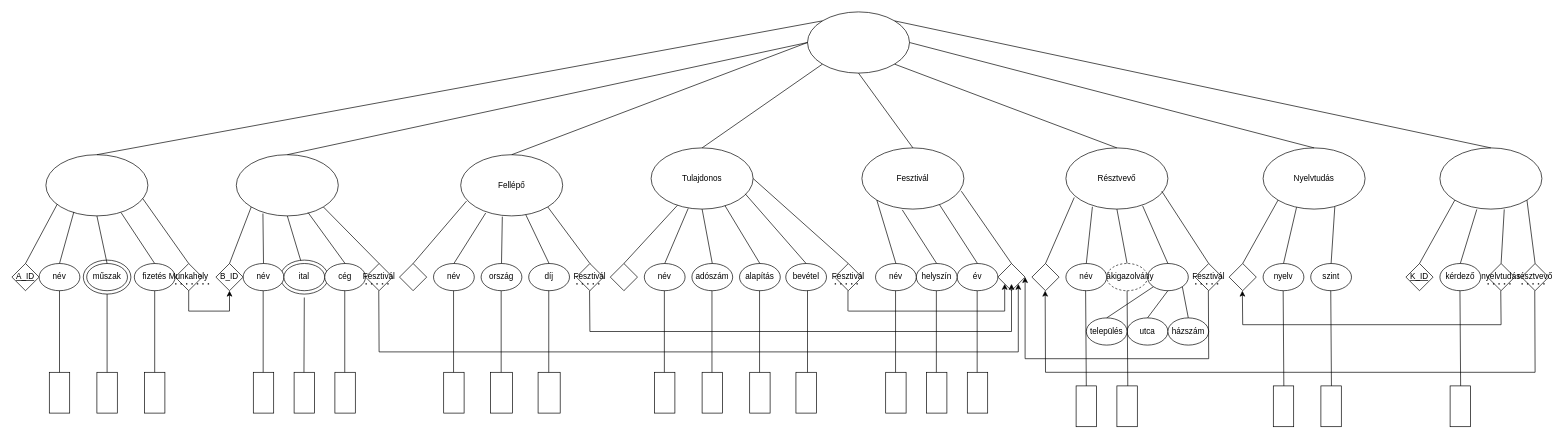
This 1564x439 diagram has some shape labels left out. Here are the shapes that lost their labels. From the top down, the box of each, then its label:
(807, 11, 910, 73): WIQPM2_fesztivál
(45, 154, 148, 216): Alkalmazott
(236, 154, 338, 216): Bár
(1439, 147, 1542, 209): Közvélemény
(399, 263, 427, 291): Fel_ID
(610, 263, 638, 291): T_ID
(997, 263, 1025, 291): Fesz_ID
(1031, 263, 1059, 291): R_ID
(1147, 263, 1188, 291): lakcím
(1228, 263, 1256, 291): Ny_ID
